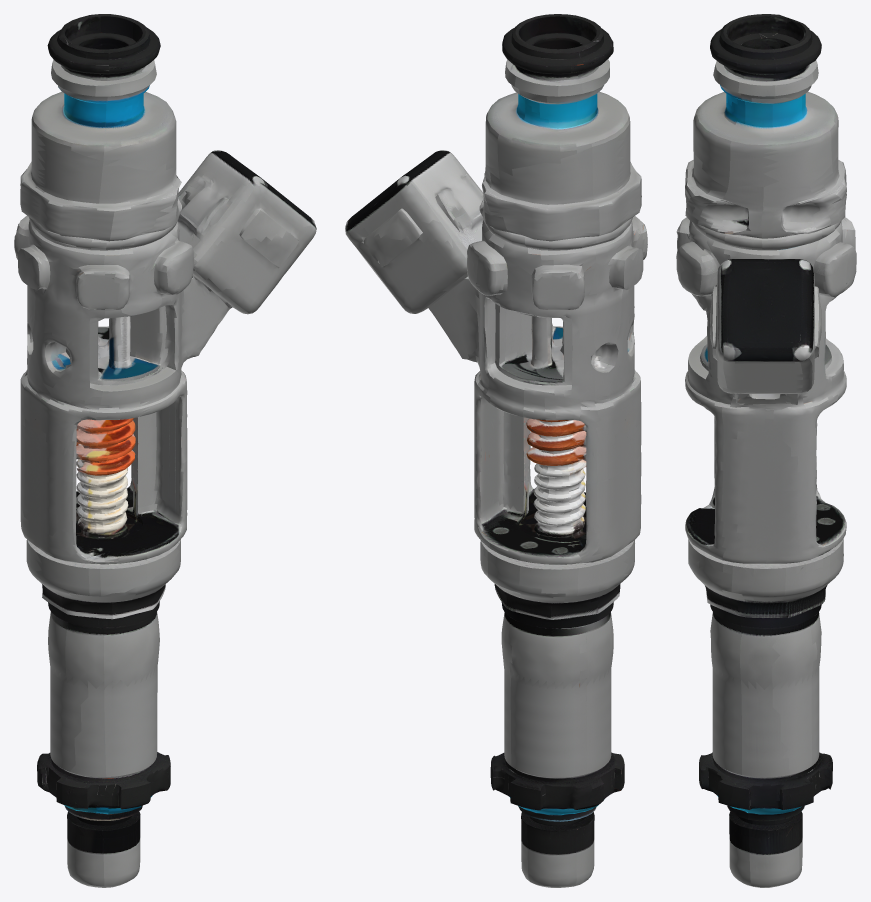
Rendered from injector-cutaway.glb.
3 renders of one model, left to right at view 1: azimuth 30°, elevation 25°; view 2: azimuth 150°, elevation 25°; view 3: azimuth 270°, elevation 25°, orthographic.
Size of the model in its own units: 0.6364 by 1.9 by 0.3675.
Materials: 1 (1 with a texture image).
